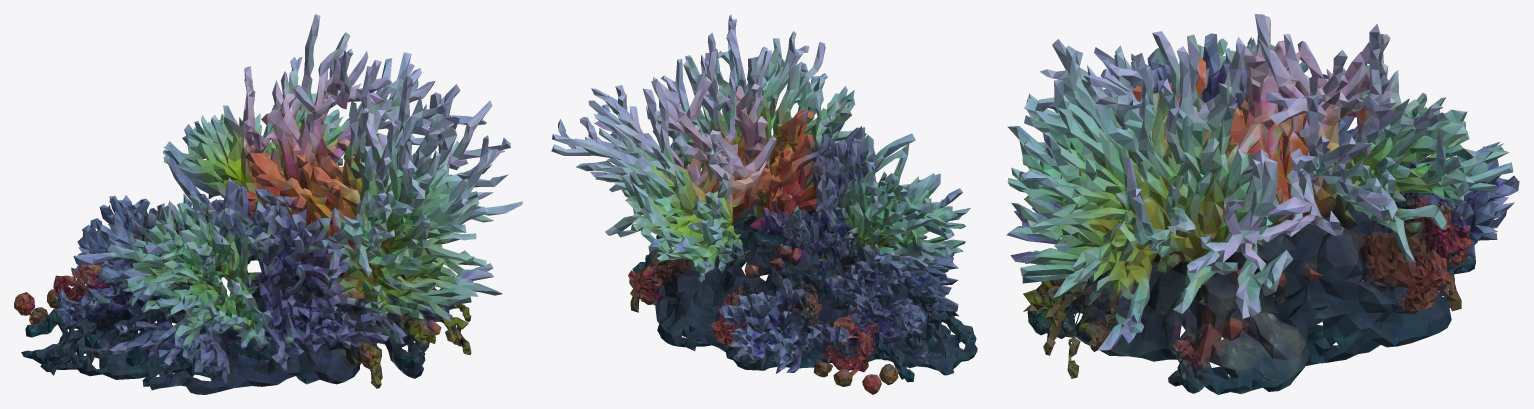
Rendered from sea_plant_0613164221_texture.fbx.
The picture shows the model from 3 angles, left to right: view 1: azimuth 30°, elevation 25°; view 2: azimuth 150°, elevation 25°; view 3: azimuth 270°, elevation 25°; orthographic projection. The views are drawn at different scales.
Parts seen in each view (by area): view 1: temp; view 2: temp; view 3: temp.
Boxes of the visible parts, <box> form: temp: <box>14,14,522,394</box>; temp: <box>551,14,977,394</box>; temp: <box>1006,14,1519,394</box>.
Bounding box in the file's own units: 197 × 112 × 157.
Materials: 1 (1 with a texture image).
